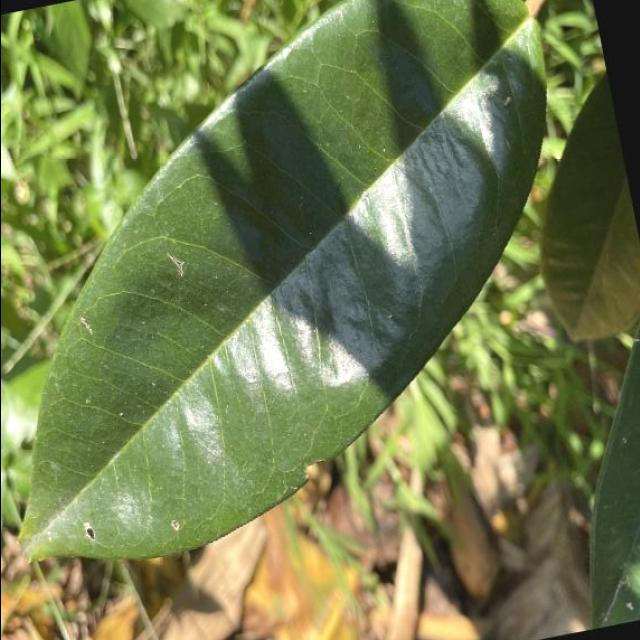No Disease: (0, 0, 638, 597)
